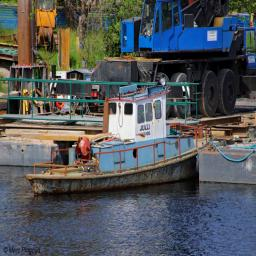tugboat: (27, 82, 203, 206)
